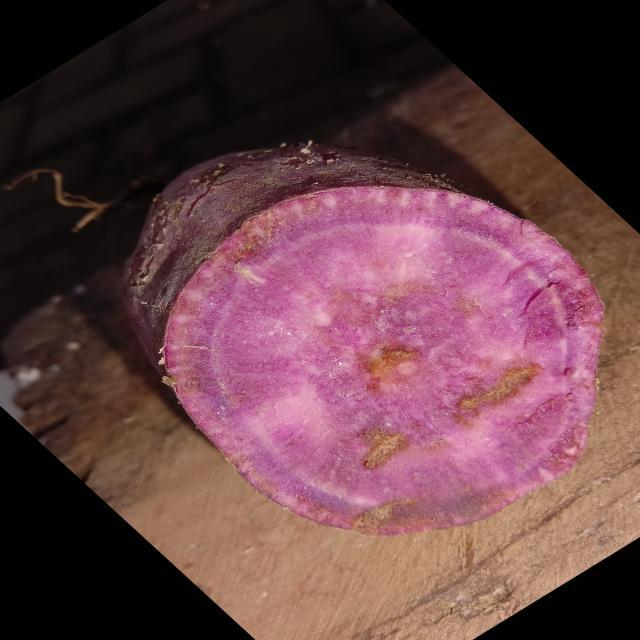Sick Sweet Potato_Tuber Rot: (162, 186, 603, 535)
